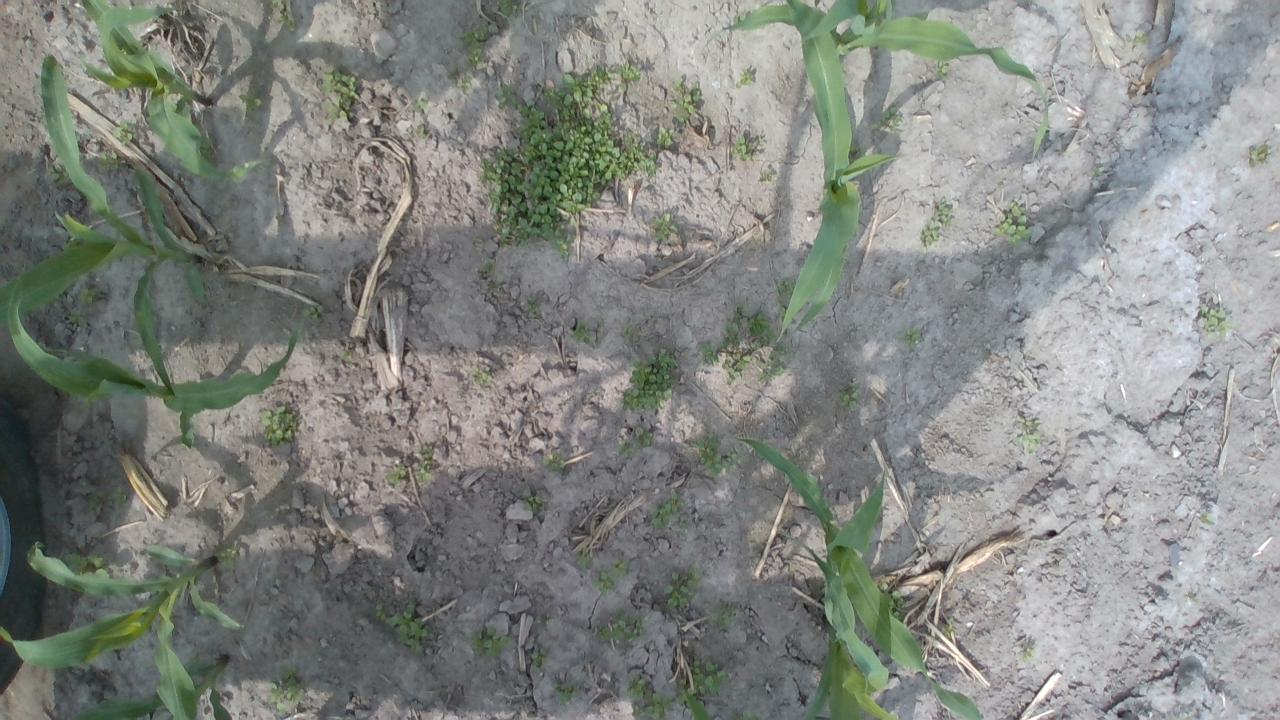Maize: (0, 54, 208, 400), (738, 436, 984, 720), (700, 0, 1050, 163), (7, 277, 304, 451), (0, 541, 247, 720), (777, 0, 904, 342), (76, 0, 268, 185), (782, 533, 902, 720), (71, 652, 235, 720)
Weeds: (480, 65, 657, 260), (700, 312, 789, 386), (622, 348, 678, 412), (376, 601, 432, 655), (689, 432, 740, 478), (676, 660, 728, 705), (384, 444, 436, 488), (628, 679, 672, 720), (324, 68, 356, 122), (668, 76, 706, 121), (994, 201, 1030, 247), (598, 610, 644, 646), (920, 198, 953, 247), (260, 404, 298, 446), (268, 668, 304, 712), (651, 492, 688, 530), (1198, 304, 1236, 340), (664, 570, 698, 608), (469, 626, 507, 660), (594, 558, 628, 594), (68, 554, 110, 583), (618, 426, 654, 459), (463, 25, 488, 68), (1016, 416, 1042, 451), (874, 105, 904, 135), (651, 211, 678, 243), (881, 584, 906, 618), (90, 488, 128, 510), (270, 0, 296, 26), (838, 377, 858, 410), (542, 450, 568, 475), (570, 320, 594, 346), (238, 89, 262, 113), (1248, 142, 1272, 166), (712, 605, 736, 628), (554, 682, 580, 703), (734, 134, 752, 164), (897, 328, 921, 350), (656, 124, 674, 150), (452, 71, 474, 91), (98, 150, 120, 170), (113, 120, 135, 140), (300, 304, 324, 322), (777, 279, 798, 299), (50, 165, 72, 184), (1130, 28, 1151, 47), (735, 70, 757, 88), (496, 0, 519, 17), (530, 646, 546, 669), (577, 546, 592, 570), (474, 366, 492, 385), (219, 548, 238, 566), (78, 286, 97, 304), (1198, 508, 1216, 526), (758, 166, 774, 185), (523, 496, 542, 512), (936, 59, 950, 79), (1020, 646, 1036, 662), (732, 710, 757, 720), (527, 296, 540, 314), (412, 124, 428, 138), (413, 97, 427, 112)
